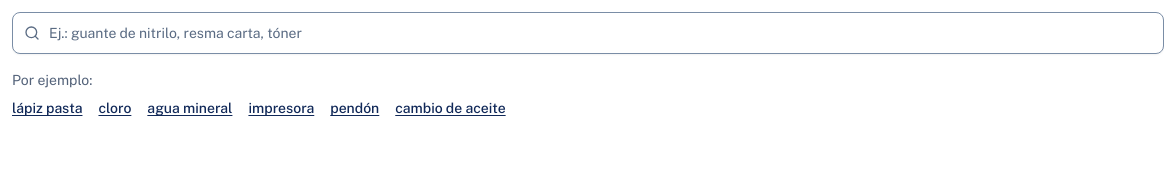
buscador de productos › sin resultados lo dice
Type "xyzzy" into the search field named "buscar un producto". click: (588, 33)
box: [12, 12, 1164, 54]
Wait 300 ms
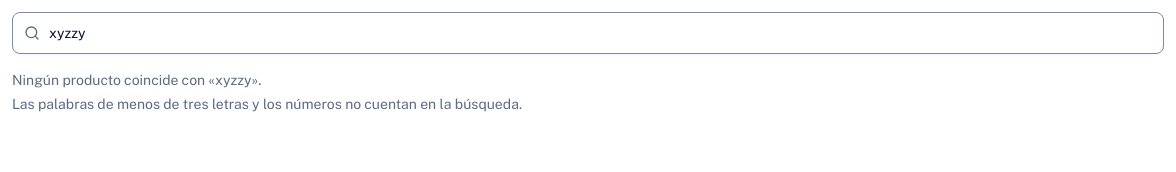
Result: the text "Ningún producto coincide con «xyzzy»." is shown at [12, 72, 261, 88]
Result: the text "menos de tres letras y los números no cuentan" is shown at [12, 96, 522, 112]
